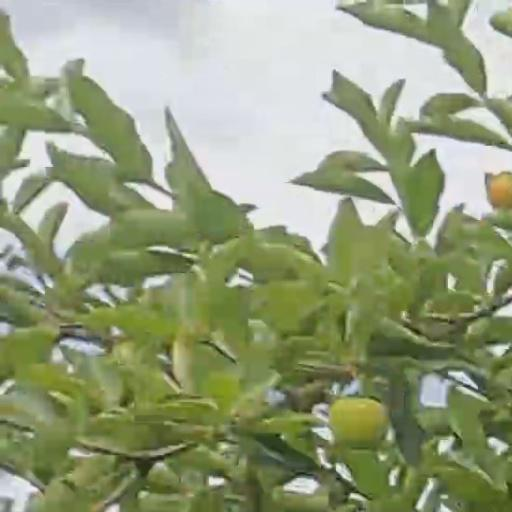acerola_verde: (328, 397, 386, 446)
acerola_vermelha: (486, 172, 512, 206)
